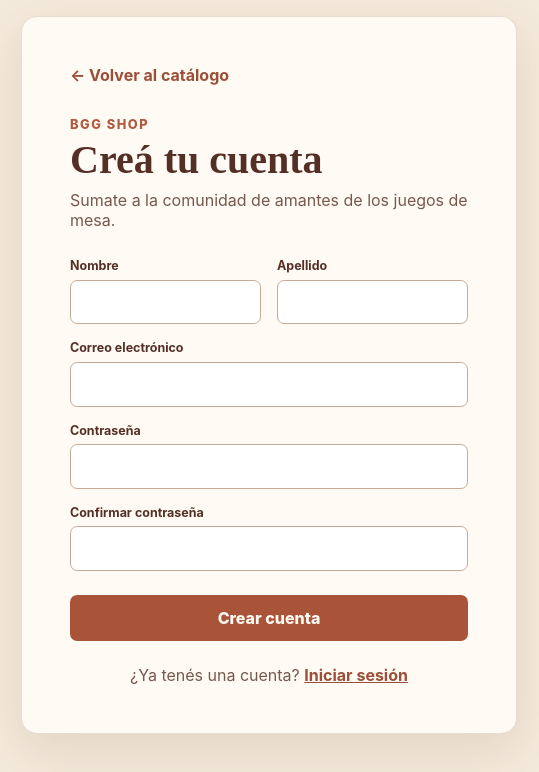
Scenario: authentication screens › submits registration to the BFF and shows the success state
In the field labelled "Nombre": (166, 302) [70,280,261,324], type "Test"
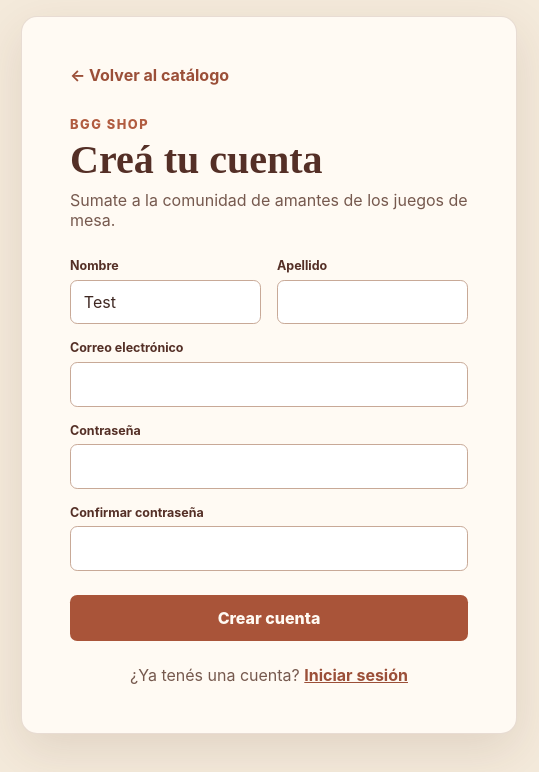
In the field labelled "Apellido": (372, 302) [277,280,468,324], type "Player"
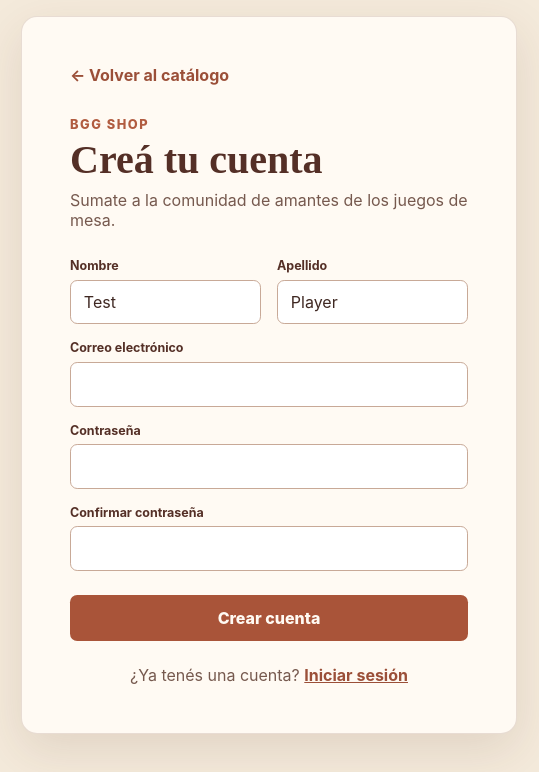
In the field labelled "Correo electrónico": (269, 384) [70,362,468,406], type "player@example.test"
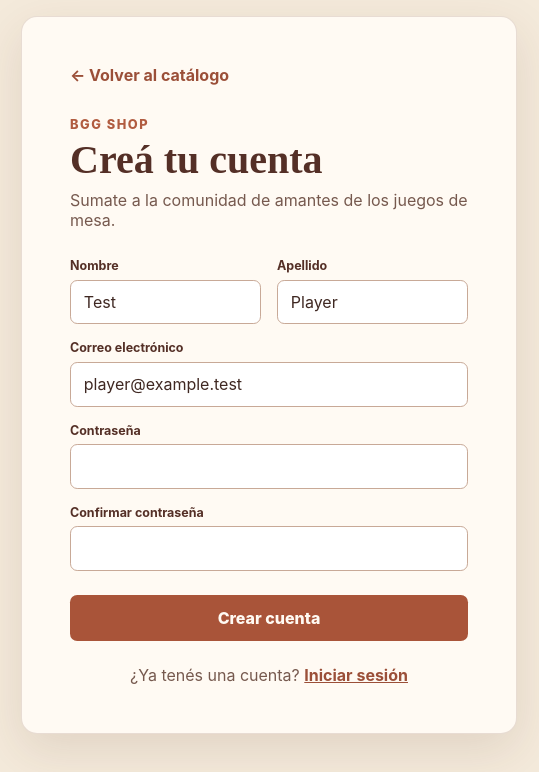
In the password field labelled "Contraseña": (269, 466) [70,444,468,489], type "same-password"
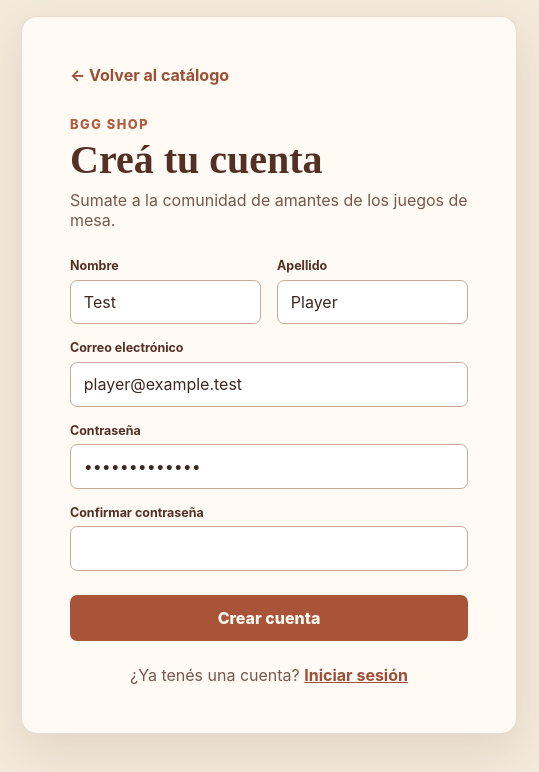
In the password field labelled "Confirmar contraseña": (269, 548) [70,526,468,571], type "same-password"
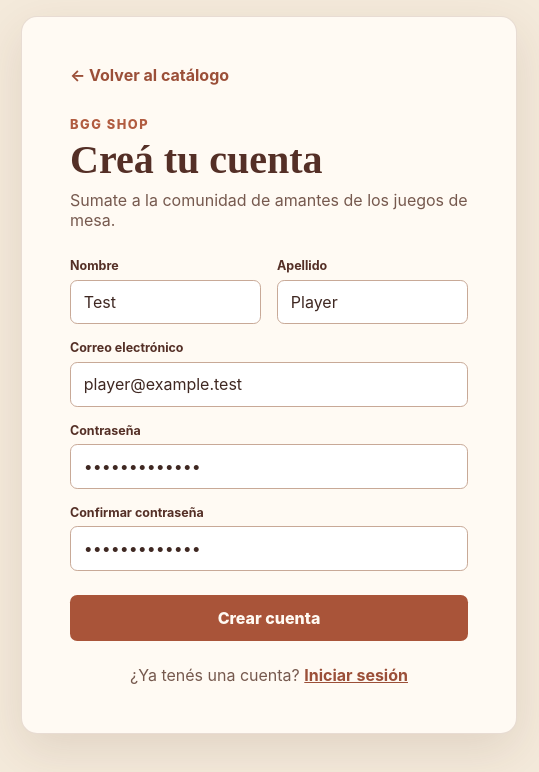
Click the button "Crear cuenta": (269, 618) [70,595,468,641]
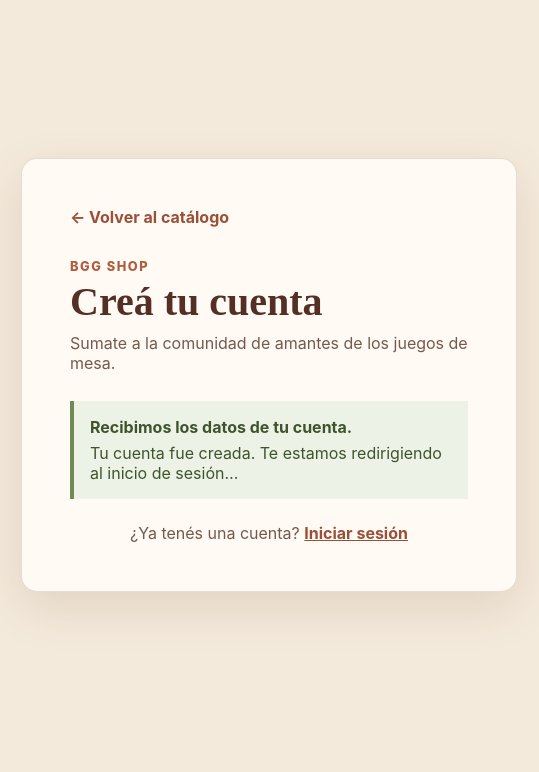
Now the text "Recibimos los datos de tu cuenta." is shown, box [90,416,352,436]
